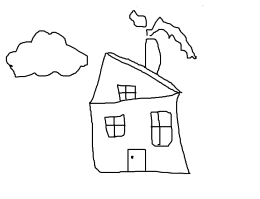closed_window: (146, 108, 178, 150), (100, 112, 129, 138), (113, 81, 141, 101)
clouds: (7, 26, 93, 82)
door: (123, 144, 150, 177)
roof: (82, 49, 186, 108)
smoking_chimney: (126, 2, 206, 74)
wall: (85, 91, 196, 182)
